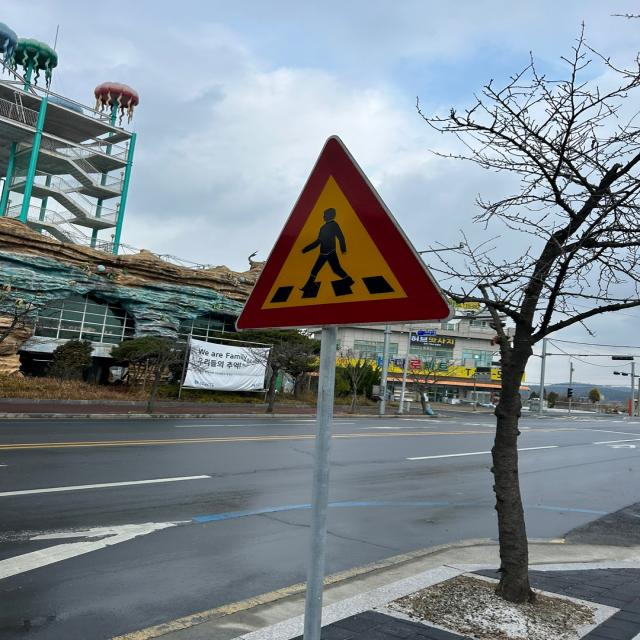Pedestrian_crossing: (219, 124, 472, 340)
